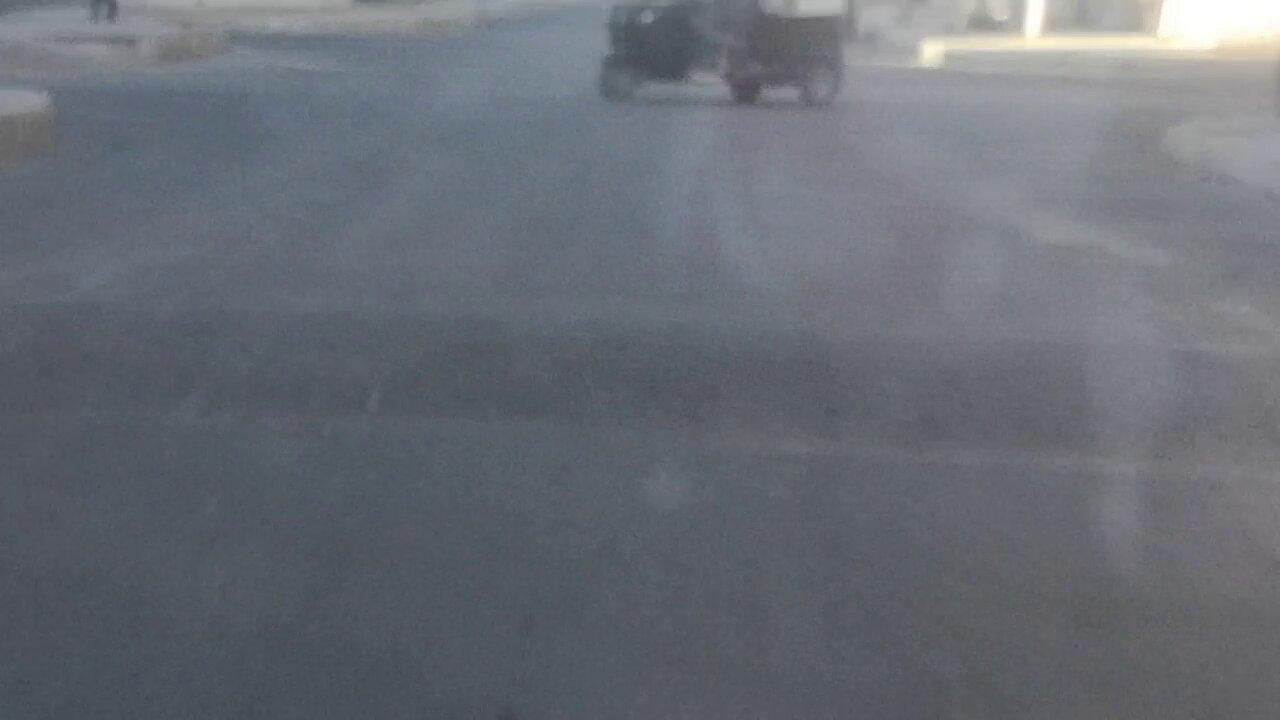Bump: (10, 283, 1280, 477)
